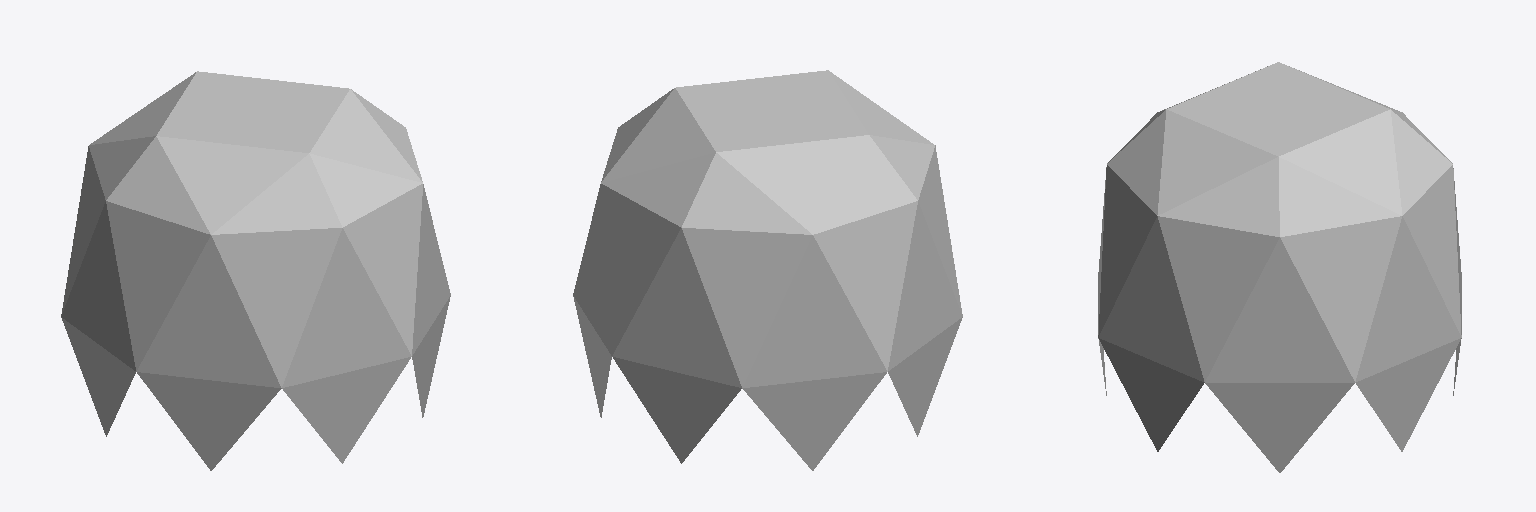
File: spooker.obj
3 renders of one model, left to right at view 1: azimuth 30°, elevation 25°; view 2: azimuth 150°, elevation 25°; view 3: azimuth 270°, elevation 25°, orthographic.
Parts seen in each view (by area): view 1: Cube_Cube.001; view 2: Cube_Cube.001; view 3: Cube_Cube.001.
Part boxes in pixels (x1,y1,x2,y2): Cube_Cube.001: (61,71,450,470); Cube_Cube.001: (573,70,962,470); Cube_Cube.001: (1098,62,1461,472).
Bounding box in the file's own units: 1.2 × 1.06 × 1.2.